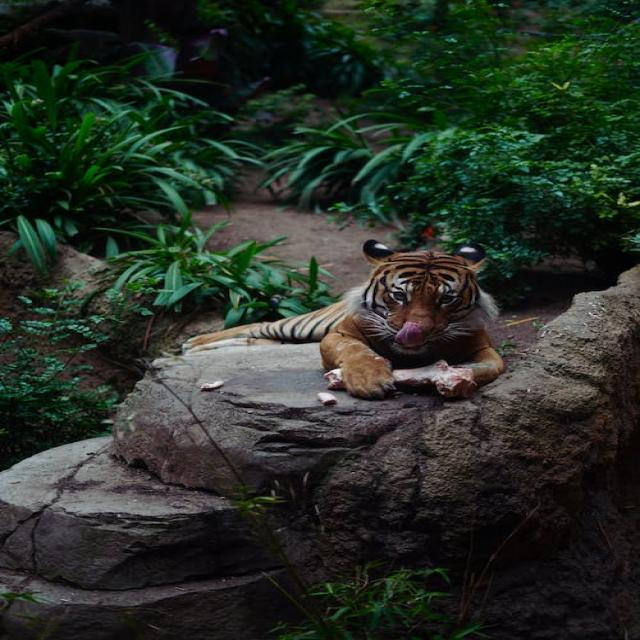not_pig: (179, 238, 506, 400)
